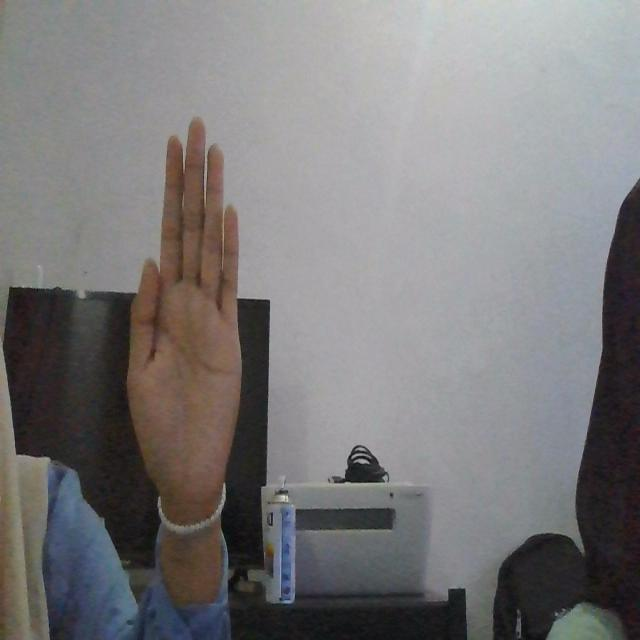hand: (100, 94, 260, 640)
